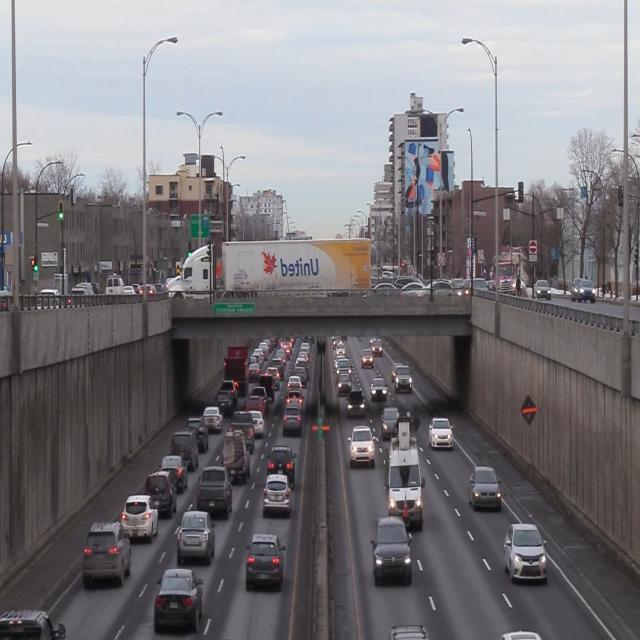Ad-signs: (220, 237, 371, 292)
Car: (503, 522, 548, 584), (244, 533, 286, 590), (0, 608, 65, 639), (468, 465, 502, 510), (389, 624, 428, 639)
Traffic-light: (516, 180, 524, 203), (57, 200, 64, 221), (29, 256, 38, 272)
